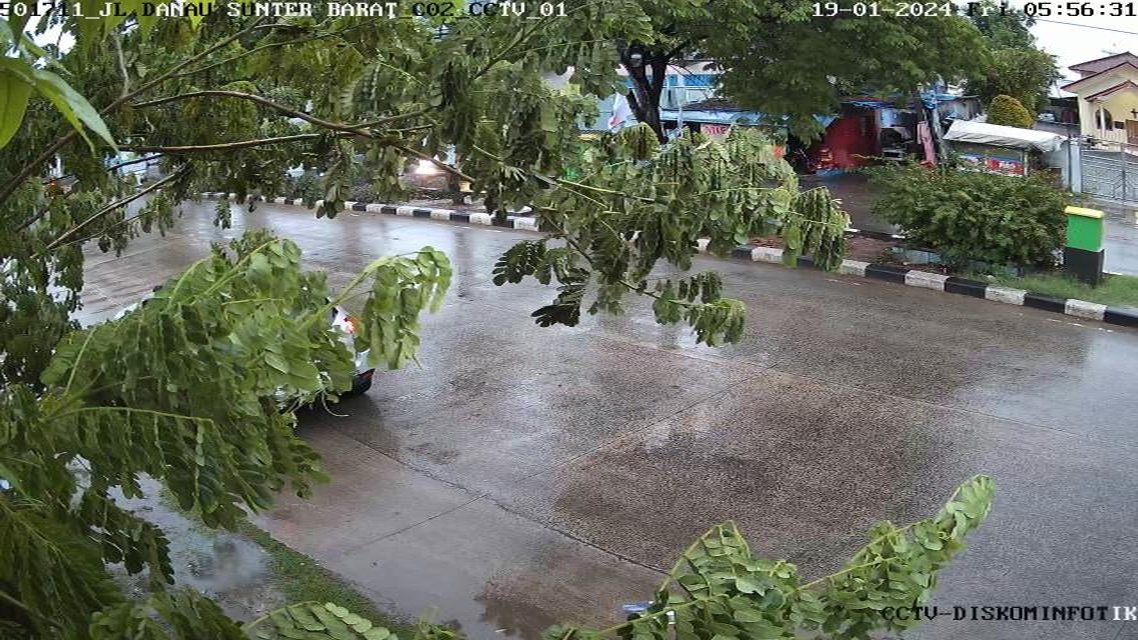Terpal: (937, 116, 1072, 151)
